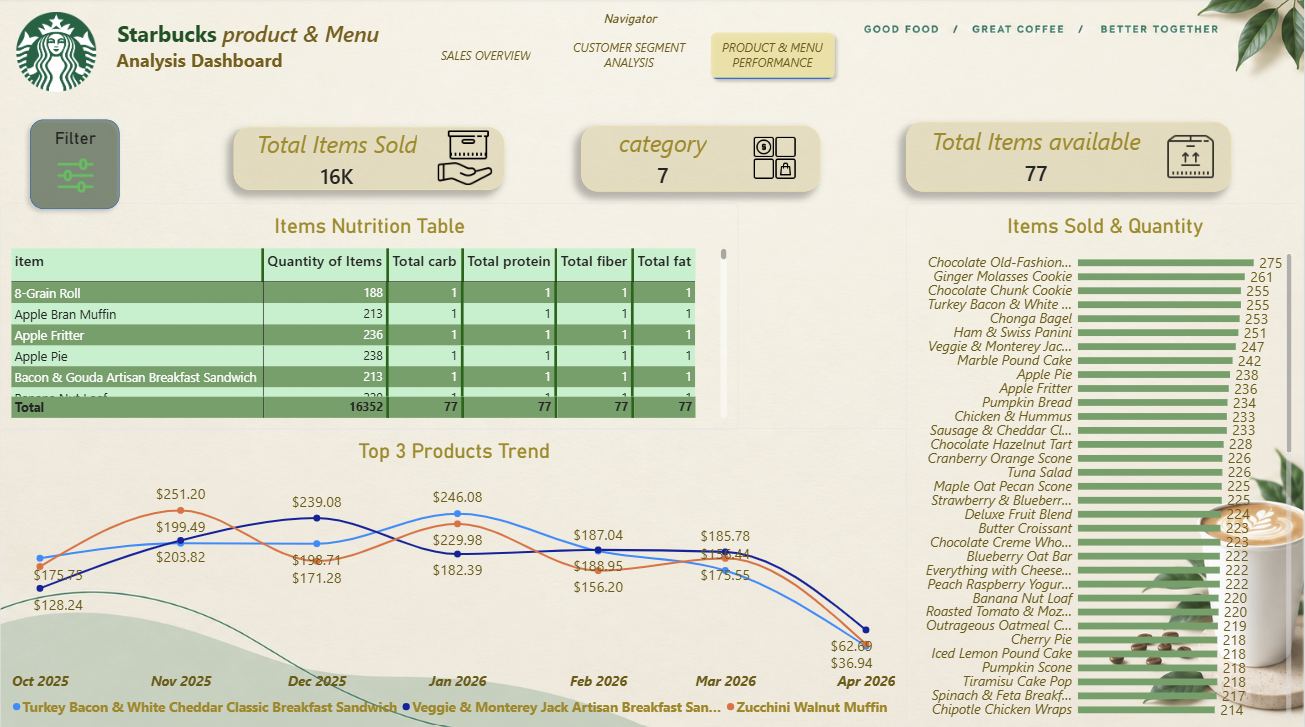

The page's visual inventory and layout, read from the dashboard file:
{"tool":"powerbi","page":{"name":"PRODUCT & MENU PERFORMANCE ","canvas":[1920,1080],"ordinal":2},"visuals":[{"type":"image","box":[18.8,22.5,128.8,117.8],"z":0},{"type":"shape","box":[33.8,168.8,154,154],"z":0,"group":"g1"},{"type":"textbox","box":[163.2,31.9,474.5,108.8],"z":1000},{"type":"image","title":"Filter","box":[36.7,192.6,148.8,95.2],"z":1000,"group":"g1"},{"type":"clusteredBarChart","title":"Items Sold & Quantity","fields":{"Category":["public items.item"],"Y":["Sum(public sales.quantity)"]},"box":[1335,303.5,584.6,776.4],"z":2000},{"type":"lineChart","title":"Top 3 Products Trend","fields":{"Category":["Calender.datetime.Variation.Date Hierarchy.Year","Calender.datetime.Variation.Date Hierarchy.Month"],"Series":["public items.item"],"Y":["Table.Total Sales"]},"box":[0,635.8,1335.3,444.5],"z":3000},{"type":"pivotTable","title":"Items Nutrition Table","fields":{"Rows":["public items.item"],"Values":["Table.Total Items Sold","CountNonNull(public items.carb)","CountNonNull(public items.protein)","CountNonNull(public items.fiber)","CountNonNull(public items.fat)"]},"box":[0,303.5,1087.4,333.3],"z":4000},{"type":"cardVisual","fields":{"Data":["Table.category"]},"box":[856.5,189.9,351.9,96.8],"z":5000},{"type":"cardVisual","fields":{"Data":["Table.Total Items available"]},"box":[1335,184.3,478.5,102.4],"z":6000},{"type":"cardVisual","fields":{"Data":["Table.Total Items Sold"]},"box":[344.5,191.8,398.5,93.1],"z":7000},{"type":"group","id":"g1","title":"slicerpanelhidden","box":[33.8,168.8,153.2,153.2],"z":13000},{"type":"pageNavigator","title":"Navigator","box":[614.4,22.3,625.6,108],"z":14001}]}

Visuals, with their boxes in screenshot pixels (x1, y1, x2, y2), scaled from the page's 1920x1080 canvas onto the 1305x727 screenshot:
image: BBox(13, 15, 100, 94)
shape: BBox(23, 114, 128, 217)
textbox: BBox(111, 21, 433, 95)
"Filter" image: BBox(25, 130, 126, 194)
"Items Sold & Quantity" clusteredBarChart: BBox(907, 204, 1304, 726)
"Top 3 Products Trend" lineChart: BBox(0, 428, 908, 726)
"Items Nutrition Table" pivotTable: BBox(0, 204, 739, 429)
cardVisual - Table.category: BBox(582, 128, 821, 193)
cardVisual - Table.Total Items available: BBox(907, 124, 1233, 193)
cardVisual - Table.Total Items Sold: BBox(234, 129, 505, 192)
"slicerpanelhidden" group: BBox(23, 114, 127, 217)
"Navigator" pageNavigator: BBox(418, 15, 843, 88)
